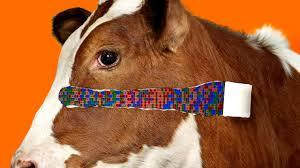cow: (13, 0, 300, 168)
